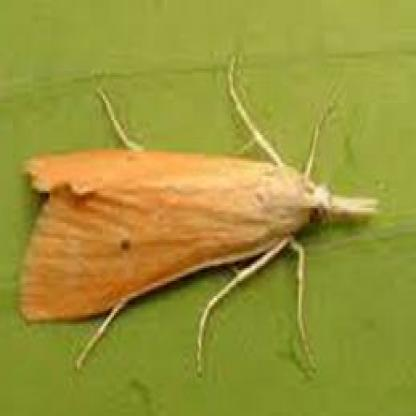stem-borer: (16, 54, 381, 377)
